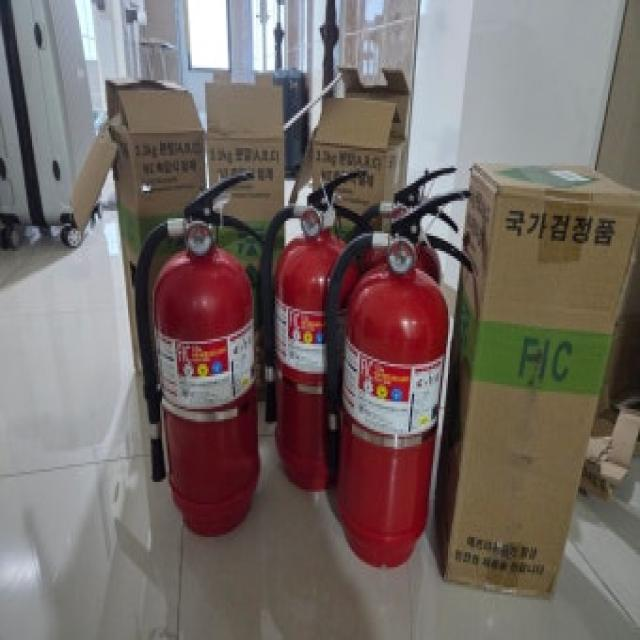pressure gauge: (388, 236, 415, 276), (185, 221, 212, 255), (186, 221, 211, 253), (300, 209, 323, 238), (299, 208, 320, 236)
